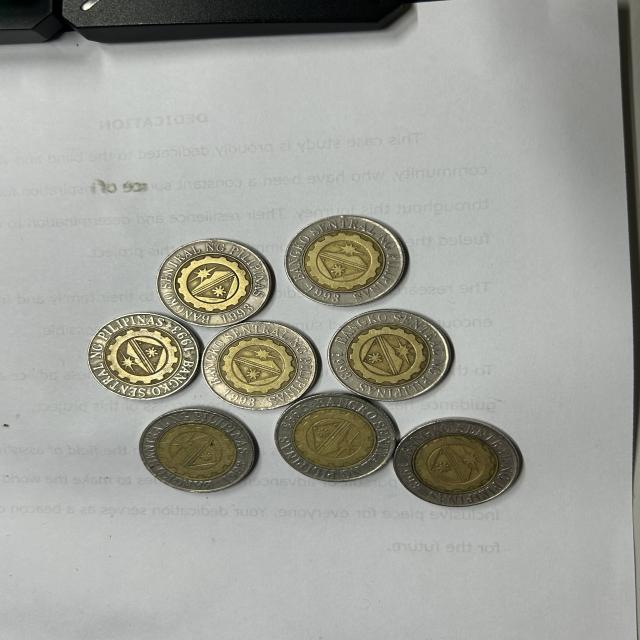10_Old_Back: (396, 416, 527, 504), (286, 215, 406, 306), (335, 310, 454, 398), (280, 395, 389, 481), (203, 326, 317, 407), (158, 244, 265, 320), (80, 318, 185, 394), (142, 414, 245, 488)
